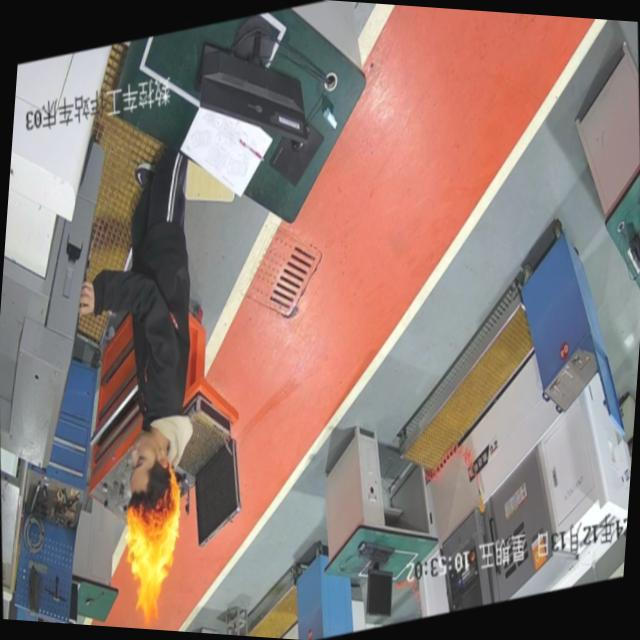fire: (100, 444, 204, 632)
